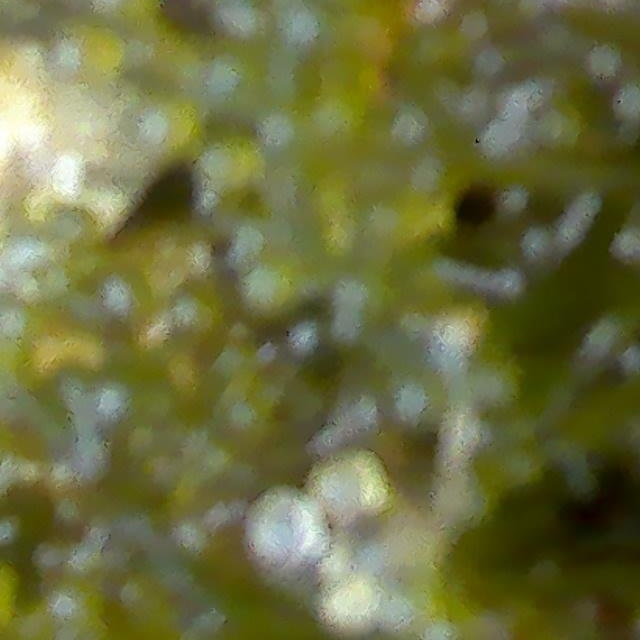SeaGrape: (300, 448, 391, 538), (248, 490, 333, 575), (313, 576, 374, 635)
